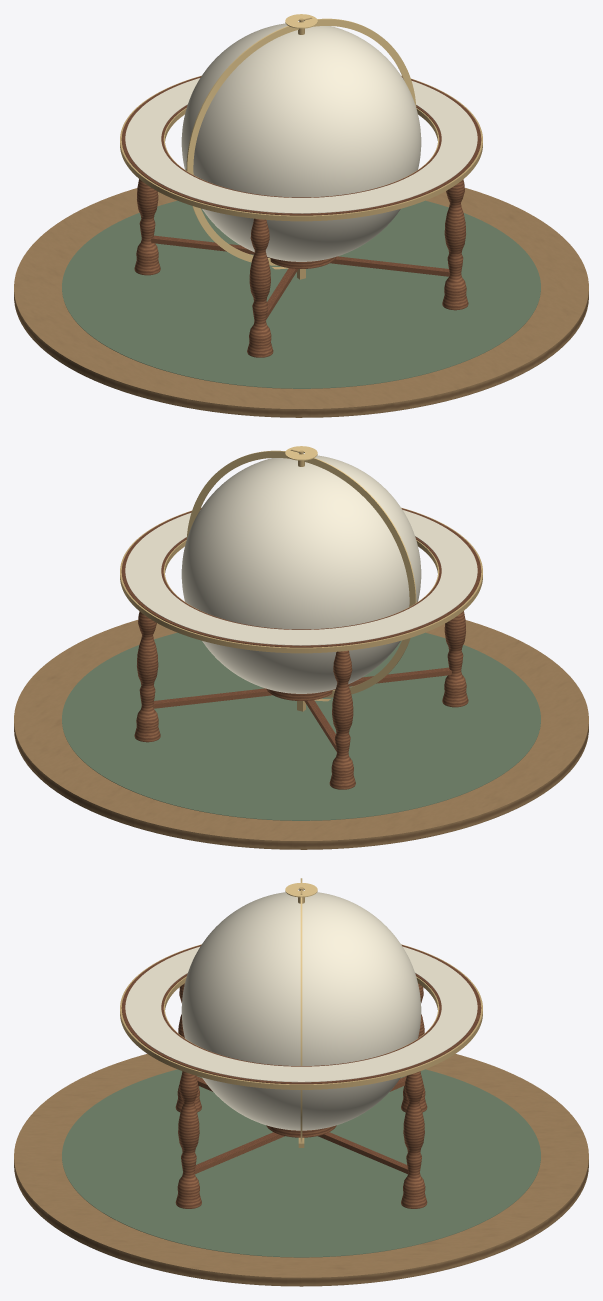
Rendered from globe-stand.glb.
3 views of the same model, one above another, from view 1: azimuth 30°, elevation 25°; view 2: azimuth 150°, elevation 25°; view 3: azimuth 270°, elevation 25° (orthographic).
Parts seen in each view (by area): view 1: TableFelt, GlobeBall, Table, HorizonBand, MeridianRing, HorizonLipOuter, HorizonRing, Leg3, Leg4, Leg2, Stretcher2; view 2: TableFelt, GlobeBall, Table, HorizonBand, MeridianRing, HorizonLipOuter, HorizonRing, Leg2, Leg1, Leg3, Stretcher1; view 3: TableFelt, GlobeBall, Table, HorizonBand, HorizonLipOuter, HorizonRing, Leg1, Leg4, Stretcher1, Stretcher2, MeridianRing.
Part boxes in pixels (x1,y1,x2,y2): TableFelt: [62, 200, 540, 388]; GlobeBall: [181, 23, 421, 261]; Table: [14, 188, 588, 417]; HorizonBand: [125, 78, 477, 213]; MeridianRing: [186, 18, 416, 265]; HorizonLipOuter: [120, 75, 482, 221]; HorizonRing: [121, 76, 481, 215]; Leg3: [247, 218, 273, 357]; Leg4: [442, 179, 468, 310]; Leg2: [134, 179, 160, 275]; Stretcher2: [151, 235, 450, 276]; TableFelt: [62, 632, 540, 820]; GlobeBall: [181, 455, 421, 693]; Table: [14, 620, 588, 849]; HorizonBand: [125, 510, 477, 645]; MeridianRing: [186, 450, 416, 697]; HorizonLipOuter: [120, 507, 482, 653]; HorizonRing: [121, 508, 481, 647]; Leg2: [329, 650, 355, 789]; Leg1: [134, 611, 160, 742]; Leg3: [442, 611, 468, 707]; Stretcher1: [152, 667, 451, 708]; TableFelt: [62, 1069, 540, 1257]; GlobeBall: [181, 892, 421, 1130]; Table: [14, 1054, 588, 1286]; HorizonBand: [125, 946, 477, 1082]; HorizonLipOuter: [120, 944, 482, 1089]; HorizonRing: [121, 945, 481, 1084]; Leg1: [401, 1071, 427, 1208]; Leg4: [175, 1071, 201, 1208]; Stretcher1: [196, 1076, 408, 1173]; Stretcher2: [194, 1076, 406, 1173]; MeridianRing: [300, 878, 302, 1143].
Size of the model in its own units: 4.8 by 2.55 by 4.8.
8 materials, 2 textured.
